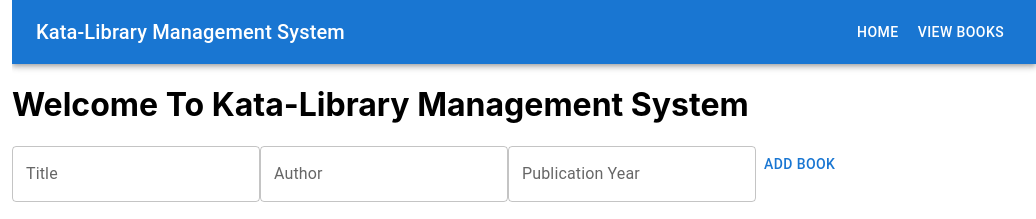
Scenario: App Component › navigates to View Books page
The width and height of the screenshot is (1036, 219).
What coordinates should you click on to do the following:
click the link "View Books"
I would click on:
 (961, 32)
Its box is [918,24,1004,40].
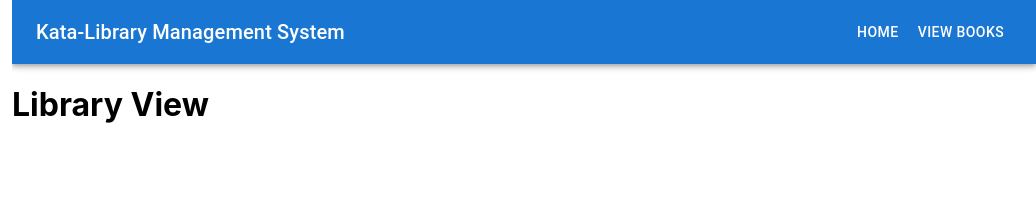
Check: the heading "Library View" is shown, box [12,85,209,124]
